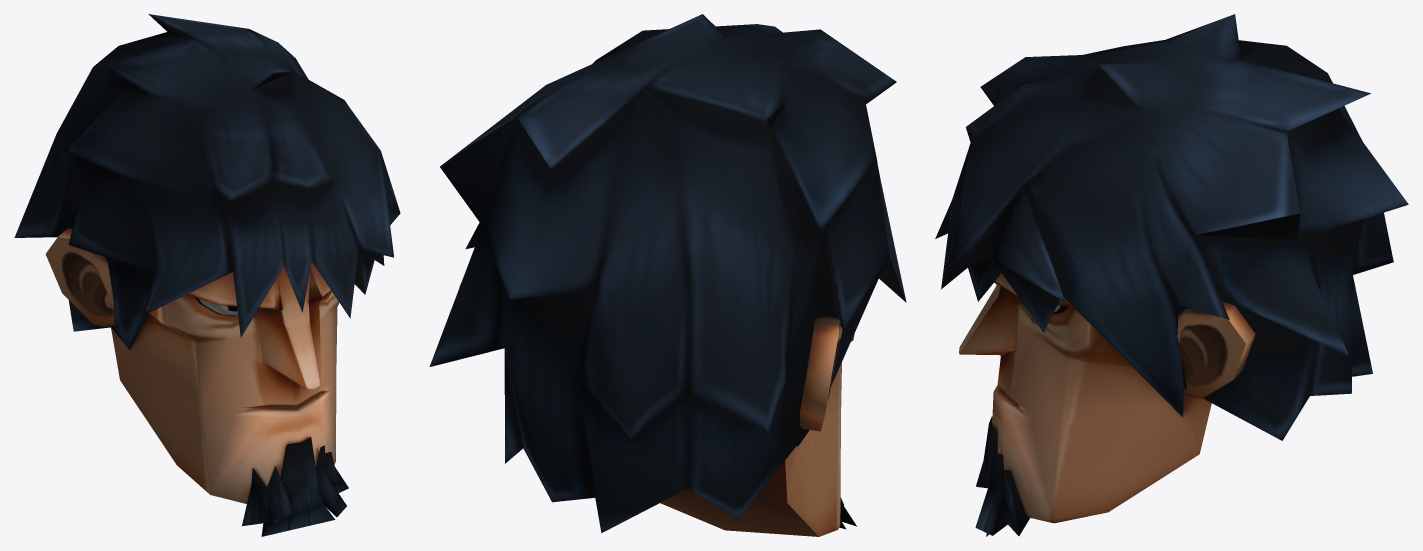
The model's file is IT_PLY_ST_0008_JohnDoe_8.FBX.
3 views of the same model, side by side, from view 1: azimuth 30°, elevation 25°; view 2: azimuth 150°, elevation 25°; view 3: azimuth 270°, elevation 25° (orthographic). The views are drawn at different scales.
Parts seen in each view (by area): view 1: 00_Player_JohnDoe_8; view 2: 00_Player_JohnDoe_8; view 3: 00_Player_JohnDoe_8.
Part boxes in pixels (x1,y1,x2,y2): 00_Player_JohnDoe_8: [14, 14, 400, 536]; 00_Player_JohnDoe_8: [429, 14, 906, 536]; 00_Player_JohnDoe_8: [935, 14, 1408, 536].
Bounding box in the file's own units: 24.4 × 33.7 × 31.02.
